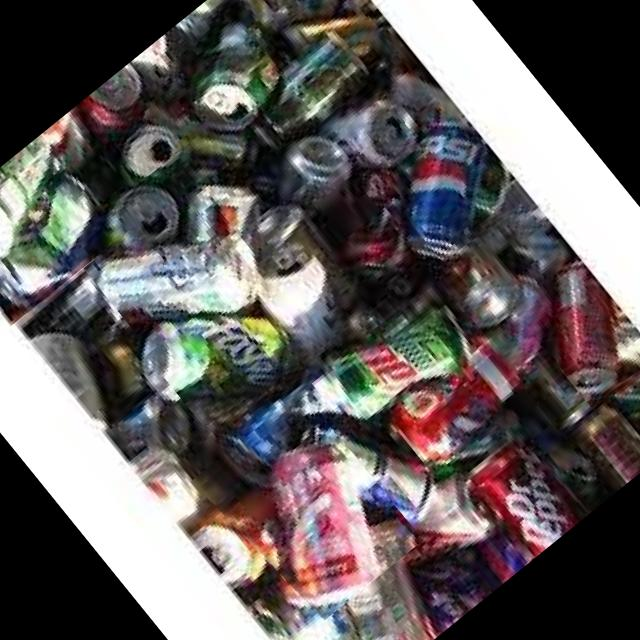Cans: (192, 391, 422, 630), (0, 139, 138, 327), (229, 204, 378, 360), (82, 190, 238, 338), (146, 284, 298, 435), (378, 118, 524, 264), (505, 251, 640, 408), (158, 5, 294, 144), (339, 298, 478, 422), (460, 438, 590, 570), (402, 341, 528, 462), (250, 18, 374, 140), (78, 68, 202, 190), (247, 592, 426, 640), (341, 91, 421, 170), (244, 0, 333, 32)
